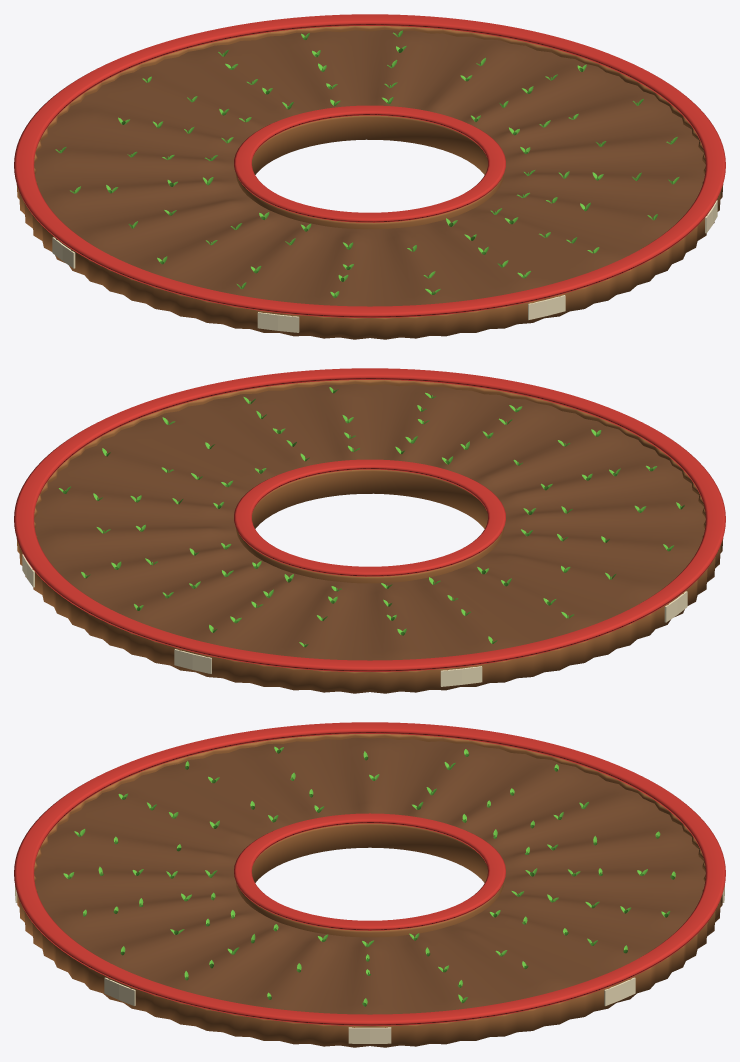
The model's file is TurningField.obj.
3 views of the same model, one above another, from view 1: azimuth 30°, elevation 25°; view 2: azimuth 150°, elevation 25°; view 3: azimuth 270°, elevation 25° (orthographic).
Parts seen in each view (by area): view 1: FieldSoil, FieldLip, FieldWood, FieldSprouts, FieldMarks; view 2: FieldSoil, FieldLip, FieldWood, FieldSprouts, FieldMarks; view 3: FieldSoil, FieldLip, FieldWood, FieldSprouts, FieldMarks.
Part boxes in pixels (x1=…): FieldSoil: x1=34, y1=29, x2=705, y2=306; FieldLip: x1=14, y1=14, x2=725, y2=317; FieldWood: x1=16, y1=26, x2=723, y2=339; FieldSprouts: x1=55, y1=30, x2=679, y2=297; FieldMarks: x1=52, y1=200, x2=717, y2=332; FieldSoil: x1=34, y1=384, x2=705, y2=660; FieldLip: x1=14, y1=368, x2=725, y2=671; FieldWood: x1=16, y1=380, x2=723, y2=693; FieldSprouts: x1=59, y1=387, x2=684, y2=647; FieldMarks: x1=22, y1=554, x2=687, y2=686; FieldSoil: x1=34, y1=737, x2=705, y2=1014; FieldLip: x1=14, y1=722, x2=725, y2=1025; FieldWood: x1=17, y1=734, x2=722, y2=1047; FieldSprouts: x1=63, y1=746, x2=675, y2=1006; FieldMarks: x1=15, y1=885, x2=724, y2=1043.
Size of the model in its own units: 41.36 by 1.87 by 41.36.
